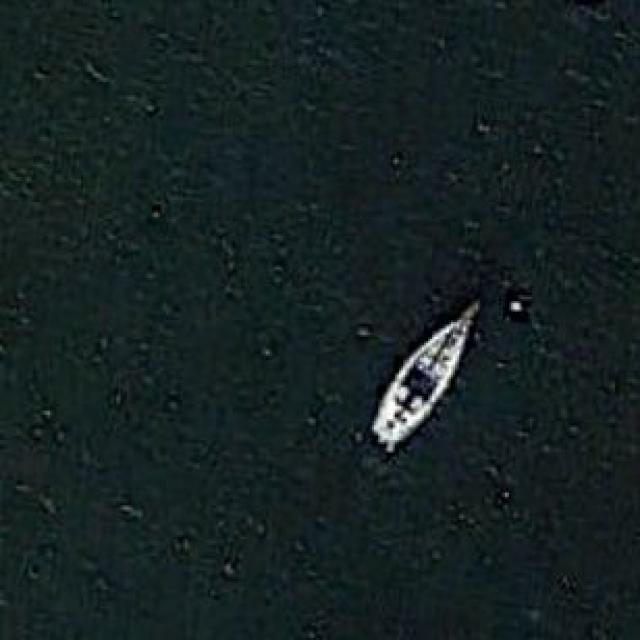ship: (366, 294, 486, 452)
